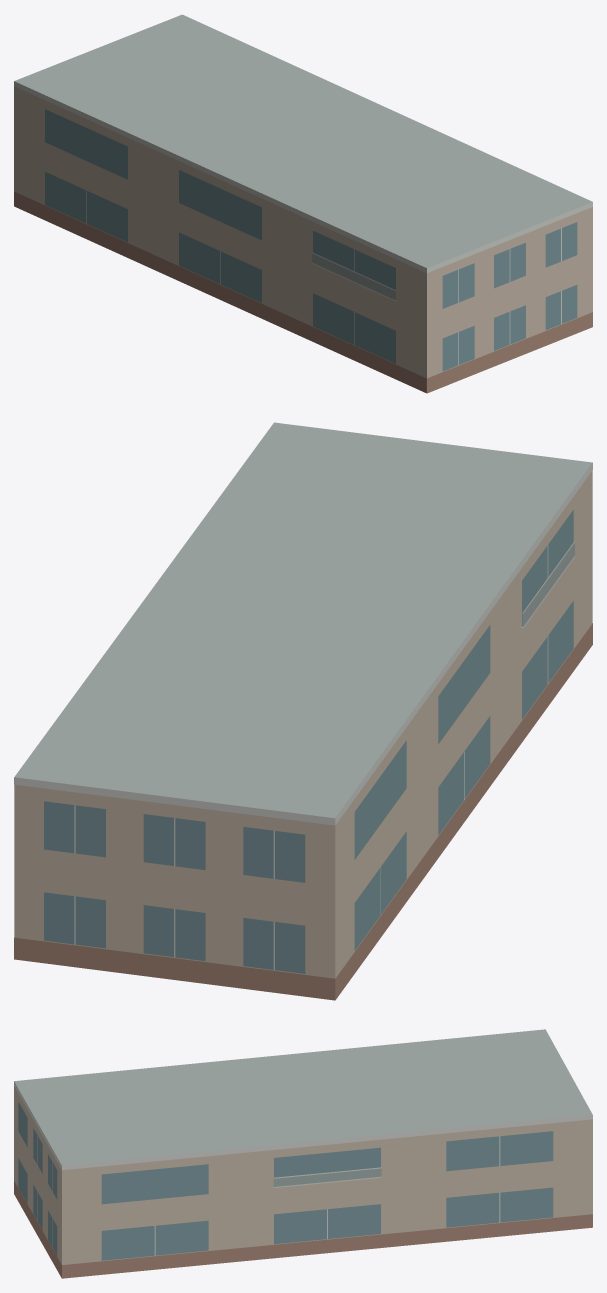
File: survey-upis-32822684.glb
The picture shows the model from 3 angles, top to bottom: view 1: azimuth 30°, elevation 25°; view 2: azimuth 150°, elevation 25°; view 3: azimuth 270°, elevation 25°; orthographic projection. The views are drawn at different scales.
Parts seen in each view (by area): view 1: survey-upis-32822684.tmp; view 2: survey-upis-32822684.tmp; view 3: survey-upis-32822684.tmp.
Part boxes in pixels (x1=…): survey-upis-32822684.tmp: x1=14, y1=14, x2=592, y2=393; survey-upis-32822684.tmp: x1=14, y1=422, x2=592, y2=1000; survey-upis-32822684.tmp: x1=14, y1=1029, x2=592, y2=1278.
Bounding box in the file's own units: 15.84 × 6.1 × 28.37.
